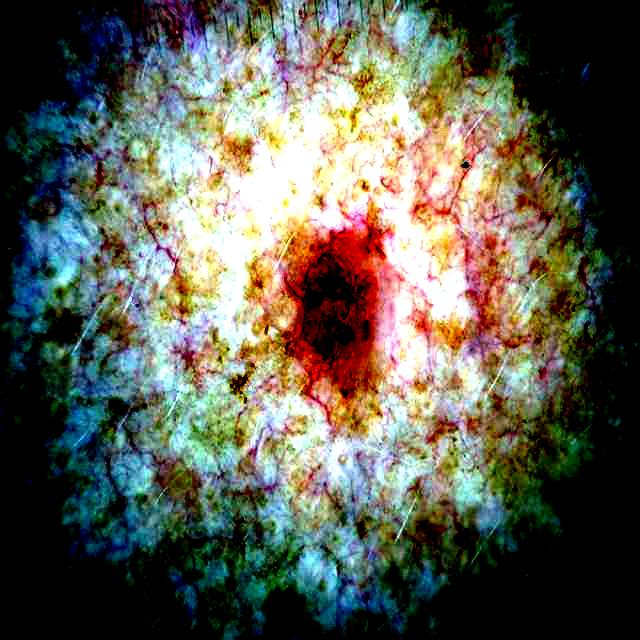BCC: (289, 229, 391, 433)
